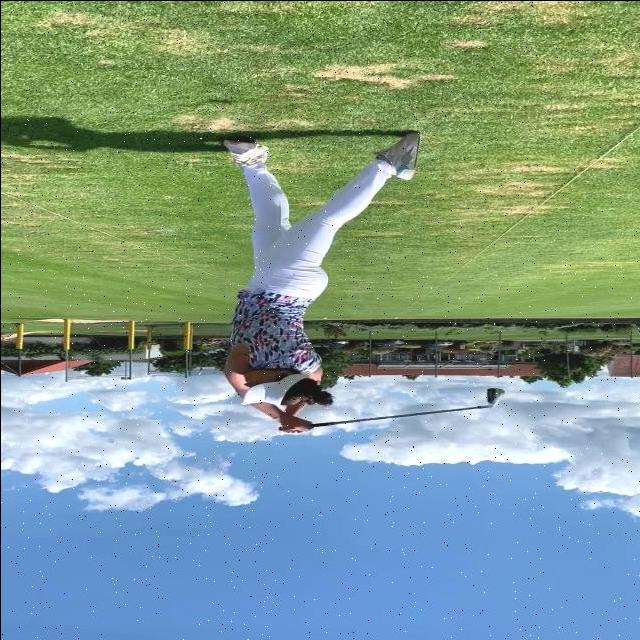ClubHandle: (276, 388, 504, 429)
ClubHead: (486, 388, 505, 403)
